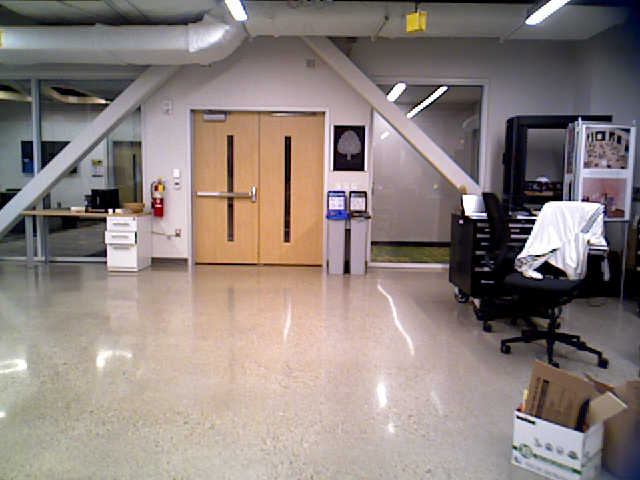painting1: (327, 123, 369, 175)
